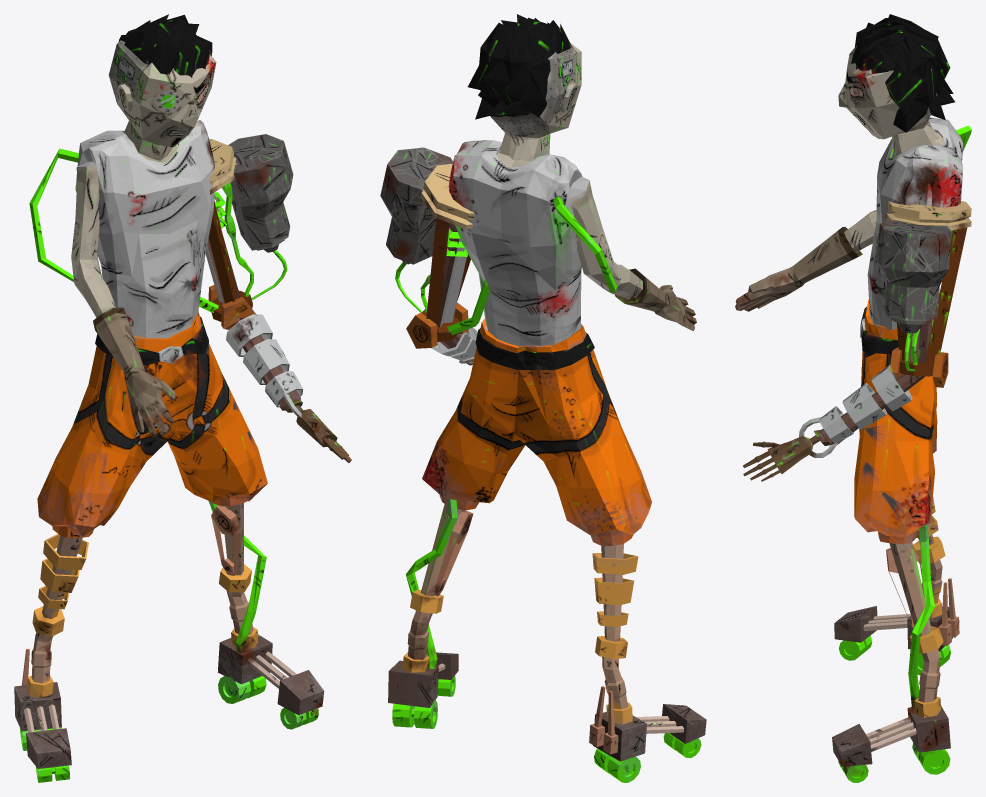
The model's file is CyborgFINALAnimation_000031.obj.
The picture shows the model from 3 angles, left to right: view 1: azimuth 30°, elevation 25°; view 2: azimuth 150°, elevation 25°; view 3: azimuth 270°, elevation 25°; orthographic projection. The views are drawn at different scales.
Parts seen in each view (by area): view 1: CyborgMesh_Cube.002; view 2: CyborgMesh_Cube.002; view 3: CyborgMesh_Cube.002.
Part boxes in pixels (left/top/right/bottom): CyborgMesh_Cube.002: left=14, top=14, right=351, bottom=782; CyborgMesh_Cube.002: left=380, top=14, right=706, bottom=782; CyborgMesh_Cube.002: left=735, top=14, right=971, bottom=782.
Bounding box in the file's own units: 4.02 × 9.65 × 2.95.
